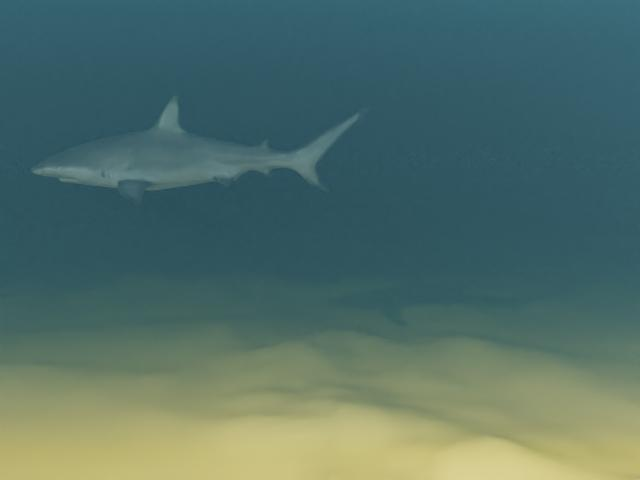Carribean Shark.001: (30, 95, 371, 204)
